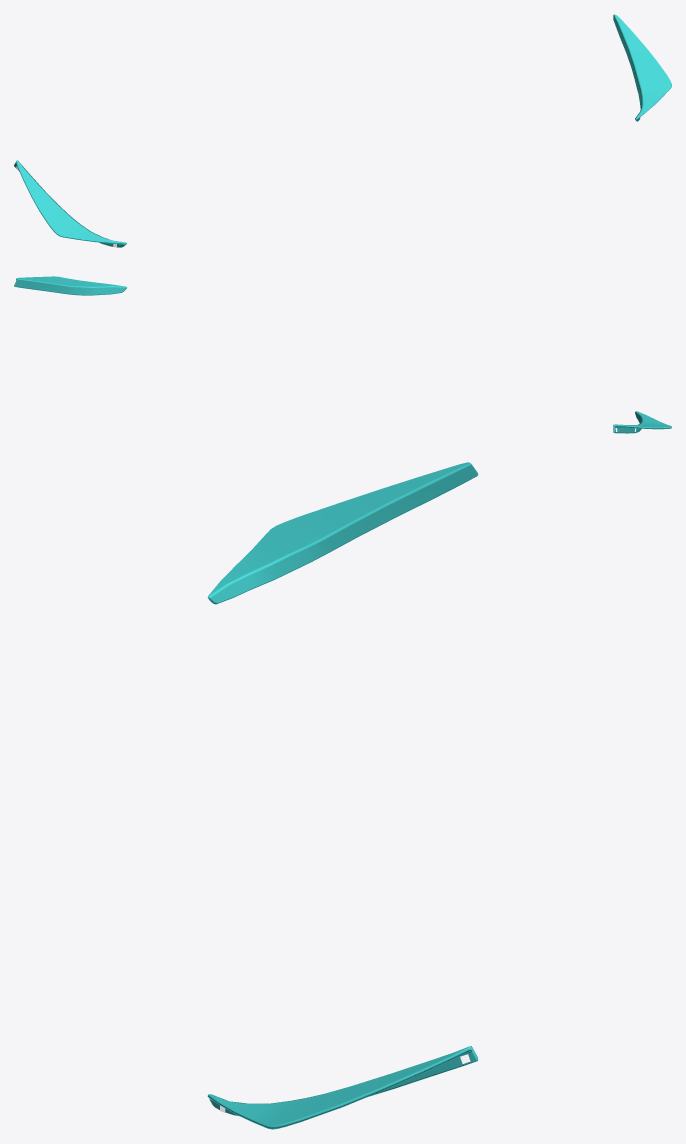
Rendered from Car_Nissan_SkylineGTRVspecR34_1999_CanardsF_SetCA.fbx.
The picture shows the model from 3 angles, top to bottom: view 1: azimuth 30°, elevation 25°; view 2: azimuth 150°, elevation 25°; view 3: azimuth 270°, elevation 25°; orthographic projection. The views are drawn at different scales.
Visible parts, largest first — view 1: CanardsF 6; view 2: CanardsF 6; view 3: CanardsF 6.
Part boxes in pixels (x1,y1,x2,y2): CanardsF 6: [14, 14, 671, 247]; CanardsF 6: [14, 276, 671, 433]; CanardsF 6: [207, 462, 478, 1129].
Size of the model in its own units: 1.73 by 0.1368 by 0.3276.
